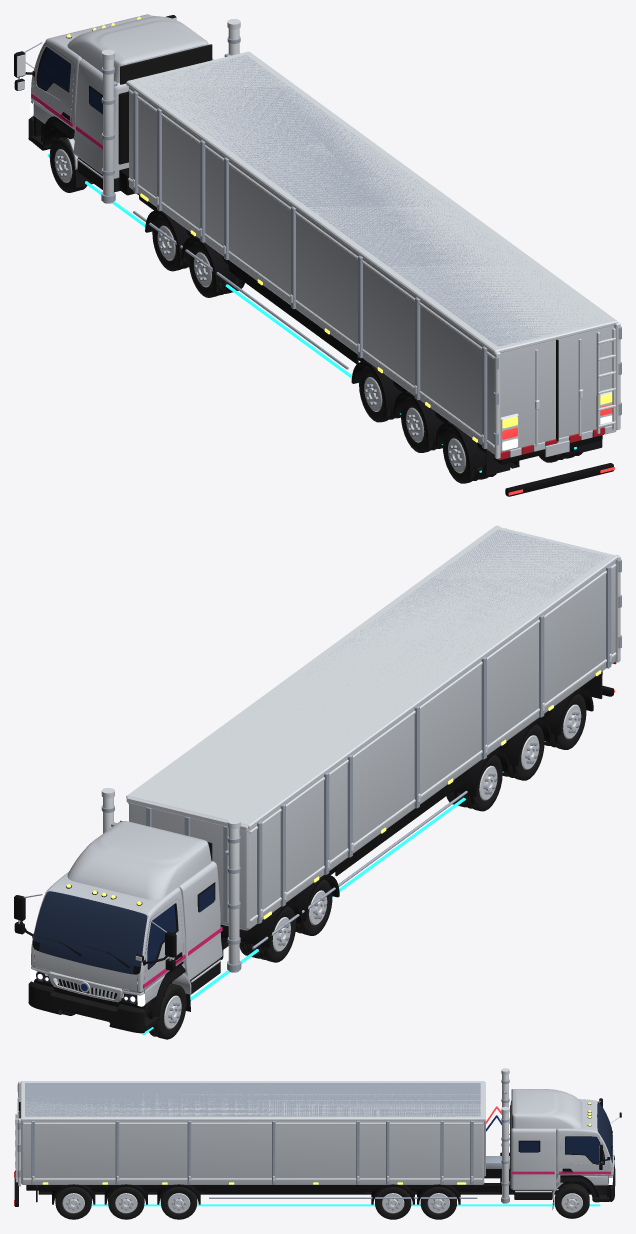
Rendered from dekotora_truck_carreta.glb.
3 views of the same model, one above another, from view 1: azimuth 30°, elevation 25°; view 2: azimuth 150°, elevation 25°; view 3: azimuth 270°, elevation 25° (orthographic). The views are drawn at different scales.
Parts seen in each view (by area): view 1: truck_chrome, truck_paint_white_panel, truck_steel, truck_plastic_black, truck_plastic_trim, wheel_r_L_1.5_1.06, truck_glass, wheel_f_L, wheel_r_L_3.0_1.06, wheel_r_L_4.5_1.06, wheel_r_L_10.6_1.06, wheel_r_L_11.9_1.06 (+3 smaller); view 2: truck_chrome, truck_paint_white_panel, truck_steel, truck_plastic_black, truck_glass_wind, truck_plastic_trim, wheel_f_L, wheel_r_L_4.5_1.06, wheel_r_L_1.5_1.06, truck_glass, wheel_r_L_3.0_1.06, wheel_r_L_11.9_1.06 (+2 smaller); view 3: truck_paint_white_panel, truck_steel, truck_chrome, truck_plastic_black, wheel_f_R, truck_lamp_cyan, wheel_r_R_4.5_1.06, wheel_r_R_1.5_1.06, wheel_r_R_3.0_1.06, wheel_r_R_10.6_1.06, wheel_r_R_11.9_1.06, truck_glass (+3 smaller).
Boxes of the visible parts, box(x1,y1,x2,y2) form: truck_chrome: box(17, 17, 620, 459); truck_paint_white_panel: box(31, 14, 614, 454); truck_steel: box(18, 15, 621, 449); truck_plastic_black: box(14, 15, 613, 496); truck_plastic_trim: box(28, 44, 212, 191); wheel_r_L_1.5_1.06: box(442, 427, 483, 483); truck_glass: box(38, 48, 102, 114); wheel_f_L: box(49, 137, 87, 192); wheel_r_L_3.0_1.06: box(401, 397, 439, 452); wheel_r_L_4.5_1.06: box(359, 366, 397, 422); wheel_r_L_10.6_1.06: box(188, 241, 229, 297); wheel_r_L_11.9_1.06: box(152, 215, 188, 271); truck_chrome: box(24, 525, 620, 1002); truck_paint_white_panel: box(31, 561, 615, 1003); truck_steel: box(18, 529, 621, 971); truck_plastic_black: box(14, 671, 613, 1019); truck_glass_wind: box(33, 891, 147, 974); truck_plastic_trim: box(28, 820, 220, 1033); wheel_f_L: box(149, 983, 186, 1039); wheel_r_L_4.5_1.06: box(462, 755, 502, 811); wheel_r_L_1.5_1.06: box(548, 693, 586, 749); truck_glass: box(147, 885, 214, 968); wheel_r_L_3.0_1.06: box(506, 724, 544, 780); wheel_r_L_11.9_1.06: box(255, 906, 295, 962); truck_paint_white_panel: box(21, 1089, 612, 1199); truck_steel: box(17, 1079, 602, 1202); truck_chrome: box(15, 1068, 621, 1203); truck_plastic_black: box(14, 1098, 621, 1206); wheel_f_R: box(554, 1183, 589, 1218); truck_lamp_cyan: box(91, 1204, 600, 1206); wheel_r_R_4.5_1.06: box(160, 1187, 197, 1219); wheel_r_R_1.5_1.06: box(55, 1187, 91, 1219); wheel_r_R_3.0_1.06: box(108, 1187, 144, 1219); wheel_r_R_10.6_1.06: box(375, 1187, 411, 1219); wheel_r_R_11.9_1.06: box(420, 1187, 456, 1219); truck_glass: box(520, 1136, 604, 1163).
Size of the model in its own units: 3.33 by 3.55 by 17.32.
18 materials, 4 textured.
